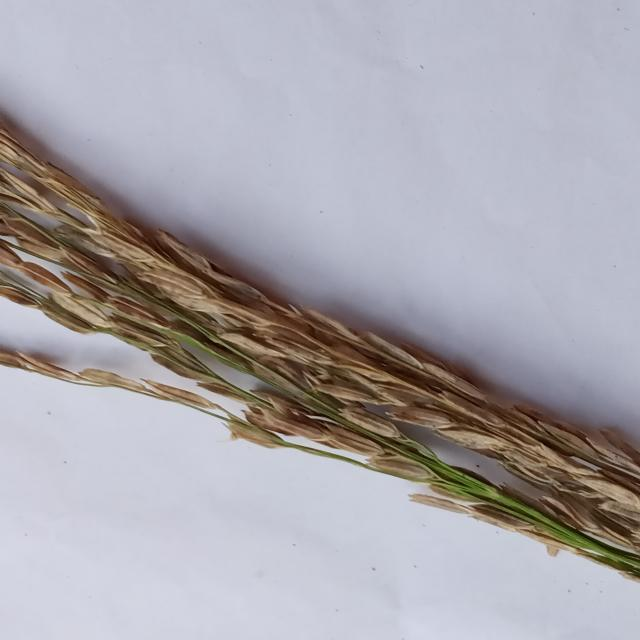Neck_Blast: (0, 106, 640, 548), (0, 213, 432, 494)
